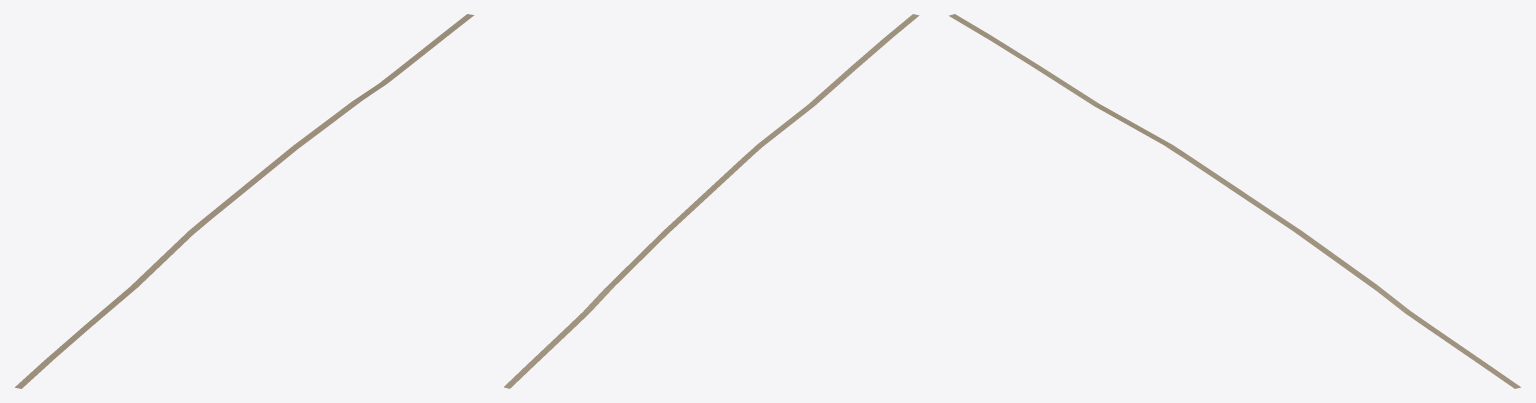
Rendered from farm_21_24_track.glb.
3 renders of one model, left to right at view 1: azimuth 30°, elevation 25°; view 2: azimuth 210°, elevation 25°; view 3: azimuth 270°, elevation 25°, orthographic. The views are drawn at different scales.
Visible parts, largest first — view 1: geometry_0; view 2: geometry_0; view 3: geometry_0.
Part boxes in pixels (bbox=[...]): geometry_0: bbox=[15, 14, 474, 388]; geometry_0: bbox=[504, 14, 919, 388]; geometry_0: bbox=[949, 14, 1520, 388].
Bounding box in the file's own units: 349 × 11.2 × 238.
